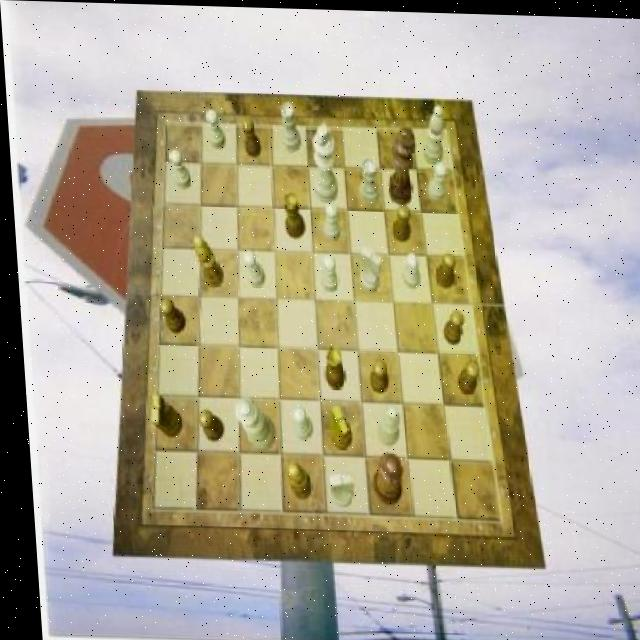bishop: (190, 235, 219, 288), (281, 461, 306, 498)
black-bishop: (382, 124, 416, 203)
black-king: (143, 394, 177, 437), (323, 402, 348, 448)
black-knight: (156, 297, 182, 332), (451, 358, 476, 393), (192, 409, 218, 442), (438, 308, 462, 343), (430, 250, 453, 286), (388, 201, 409, 239), (241, 116, 260, 157), (364, 357, 385, 391)
black-pawn: (363, 449, 397, 504)
black-queen: (279, 191, 301, 237), (318, 344, 340, 387)
black-rook: (419, 102, 445, 163), (370, 405, 395, 446)
white-bishop: (308, 122, 336, 201)
white-king: (353, 245, 379, 291), (322, 470, 348, 505)
white-knight: (423, 159, 445, 199), (168, 150, 190, 189), (239, 249, 261, 286), (204, 108, 223, 148), (286, 405, 307, 440), (318, 201, 337, 239), (315, 253, 335, 289), (398, 250, 417, 287)
white-pawn: (229, 395, 271, 450)
white-queen: (280, 100, 300, 151), (355, 156, 376, 204)
